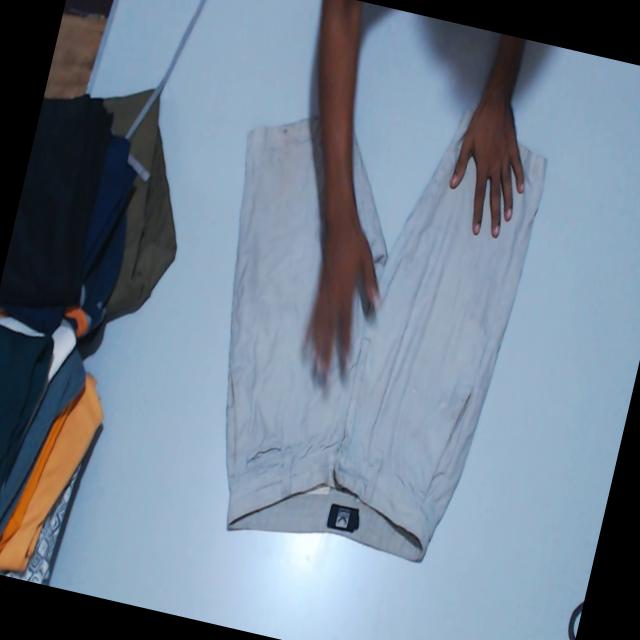new-garment: (226, 113, 545, 560)
